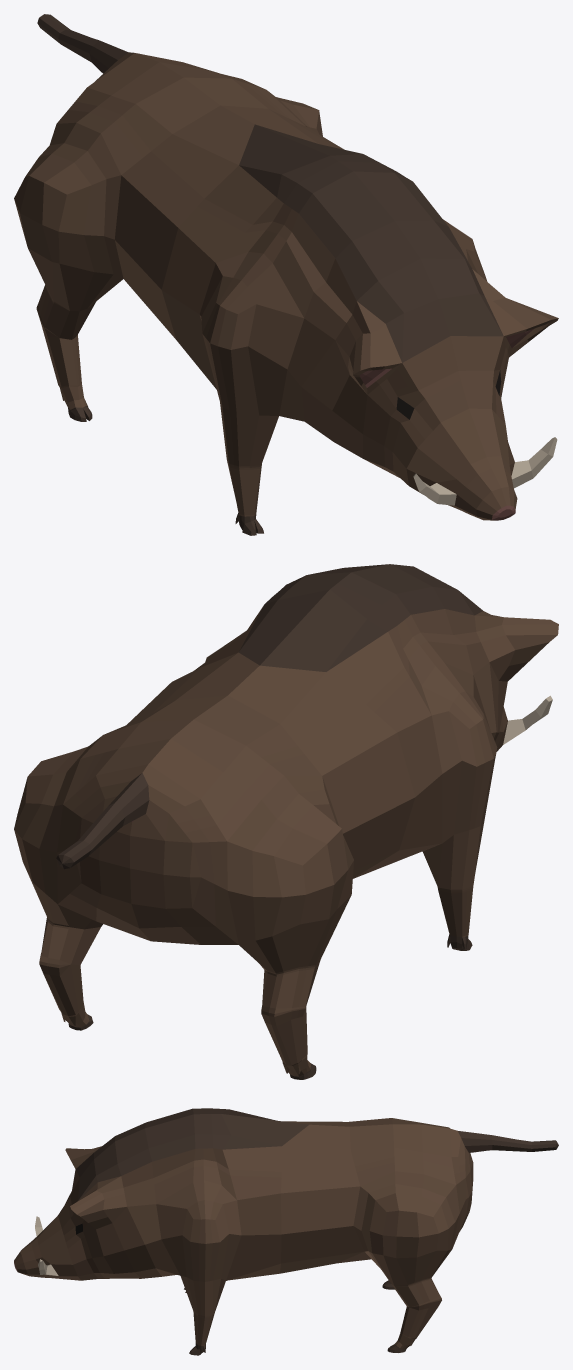
File: wild-boar-light.glb
3 renders of one model, top to bottom at view 1: azimuth 30°, elevation 25°; view 2: azimuth 150°, elevation 25°; view 3: azimuth 270°, elevation 25°, orthographic. The views are drawn at different scales.
Parts seen in each view (by area): view 1: Wild_Boar; view 2: Wild_Boar; view 3: Wild_Boar.
Boxes of the visible parts, left/top/right/bottom form: Wild_Boar: left=14, top=14, right=558, bottom=535; Wild_Boar: left=14, top=564, right=558, bottom=1079; Wild_Boar: left=14, top=1108, right=558, bottom=1355.
Size of the model in its own units: 1.67 by 1.79 by 4.25.
